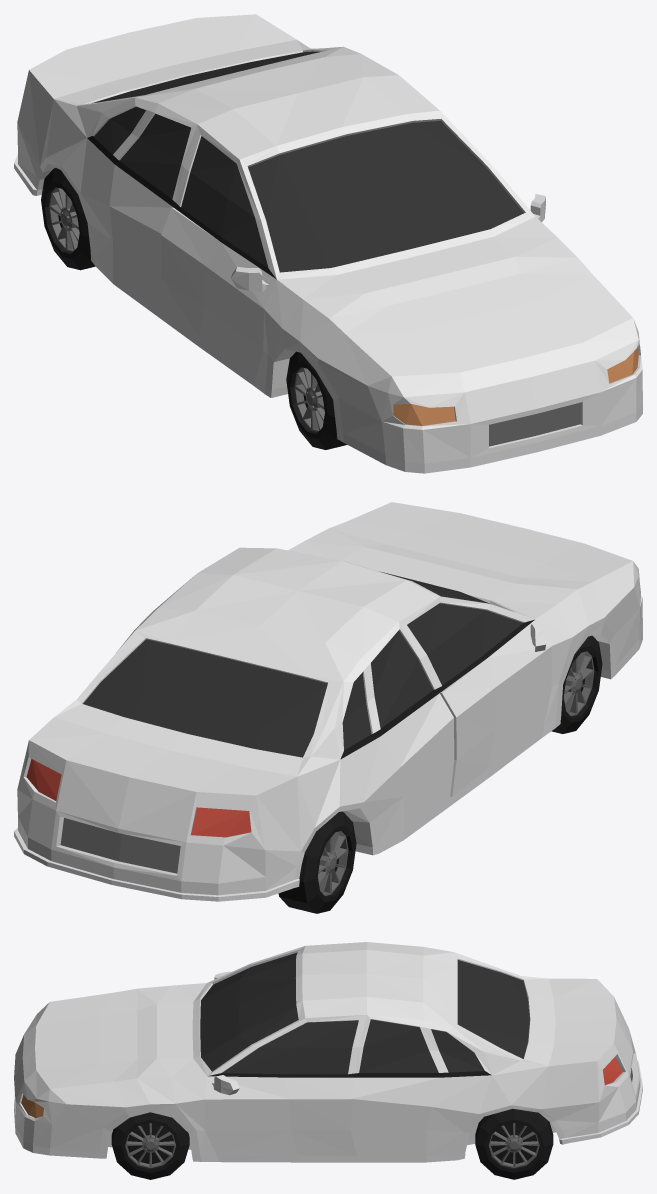
The model's file is car-a-player.glb.
3 renders of one model, top to bottom at view 1: azimuth 30°, elevation 25°; view 2: azimuth 150°, elevation 25°; view 3: azimuth 270°, elevation 25°, orthographic. The views are drawn at different scales.
Parts seen in each view (by area): view 1: body, wheel-rear, wheel-front-left; view 2: body, wheel-rear, wheel-front-left; view 3: body, wheel-rear, wheel-front-right.
Part boxes in pixels (left/top/right/bottom): body: left=14, top=14, right=642, bottom=473; wheel-rear: left=41, top=168, right=95, bottom=270; wheel-front-left: left=286, top=351, right=346, bottom=449; body: left=14, top=502, right=642, bottom=901; wheel-rear: left=278, top=811, right=356, bottom=913; wheel-front-left: left=551, top=635, right=602, bottom=733; body: left=14, top=942, right=642, bottom=1162; wheel-rear: left=475, top=1108, right=553, bottom=1179; wheel-front-right: left=111, top=1112, right=189, bottom=1179.
Bounding box in the file's own units: 1.81 × 1.18 × 4.22.
Materials: 1 (1 with a texture image).
